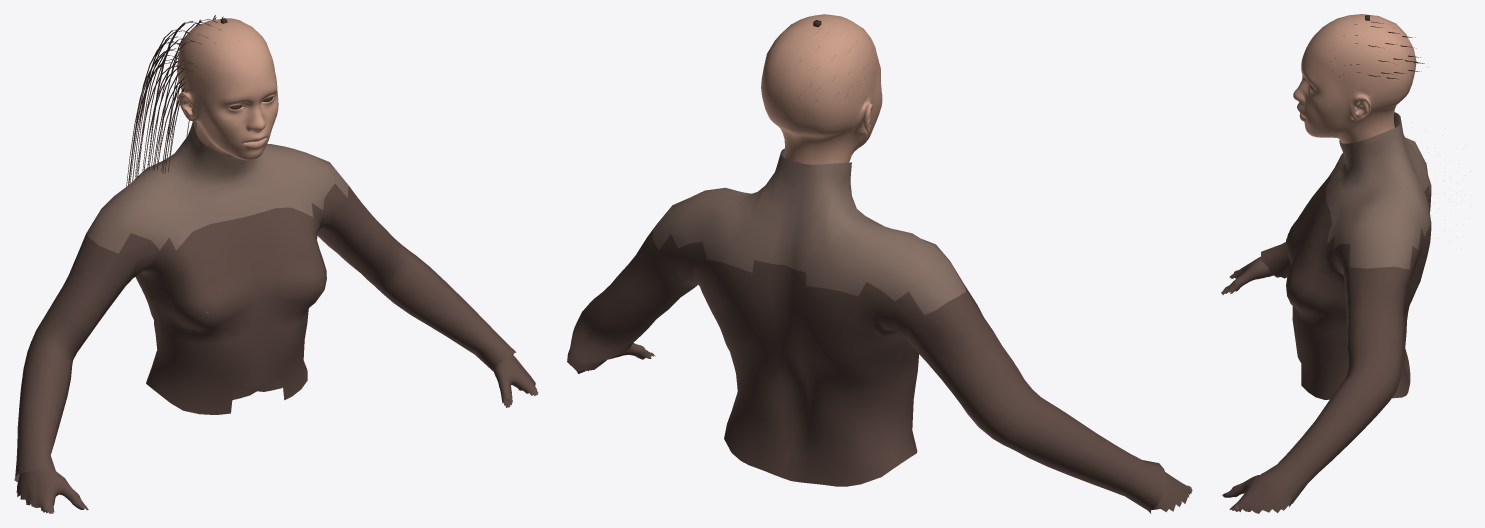
The model's file is avatar_V006_guides_20261031.glb.
3 renders of one model, left to right at view 1: azimuth 30°, elevation 25°; view 2: azimuth 150°, elevation 25°; view 3: azimuth 270°, elevation 25°, orthographic. The views are drawn at different scales.
Parts seen in each view (by area): view 1: ARCHIVISTA_NUOVO_RIFERIMENTO_V49, V006_CAPELLI_GUIDE_MESH; view 2: ARCHIVISTA_NUOVO_RIFERIMENTO_V49; view 3: ARCHIVISTA_NUOVO_RIFERIMENTO_V49, V006_CAPELLI_GUIDE_MESH.
Part boxes in pixels (x1=…): ARCHIVISTA_NUOVO_RIFERIMENTO_V49: x1=14, y1=18, x2=538, y2=513; V006_CAPELLI_GUIDE_MESH: x1=126, y1=15, x2=223, y2=186; ARCHIVISTA_NUOVO_RIFERIMENTO_V49: x1=567, y1=14, x2=1192, y2=513; ARCHIVISTA_NUOVO_RIFERIMENTO_V49: x1=1221, y1=14, x2=1431, y2=513; V006_CAPELLI_GUIDE_MESH: x1=1330, y1=21, x2=1470, y2=171.
Bounding box in the file's own units: 0.9237 × 0.6717 × 0.4017.
